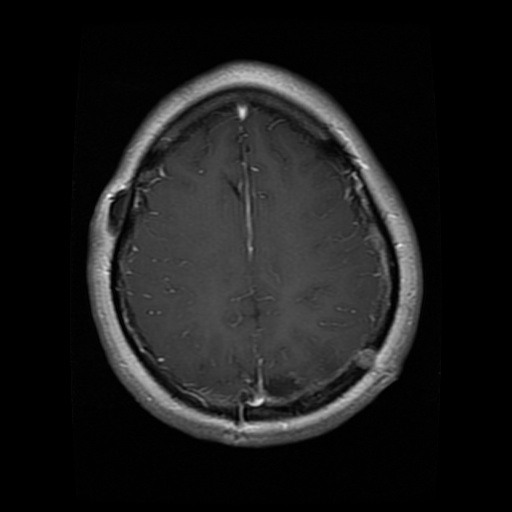glioma: (262, 371, 303, 398)
